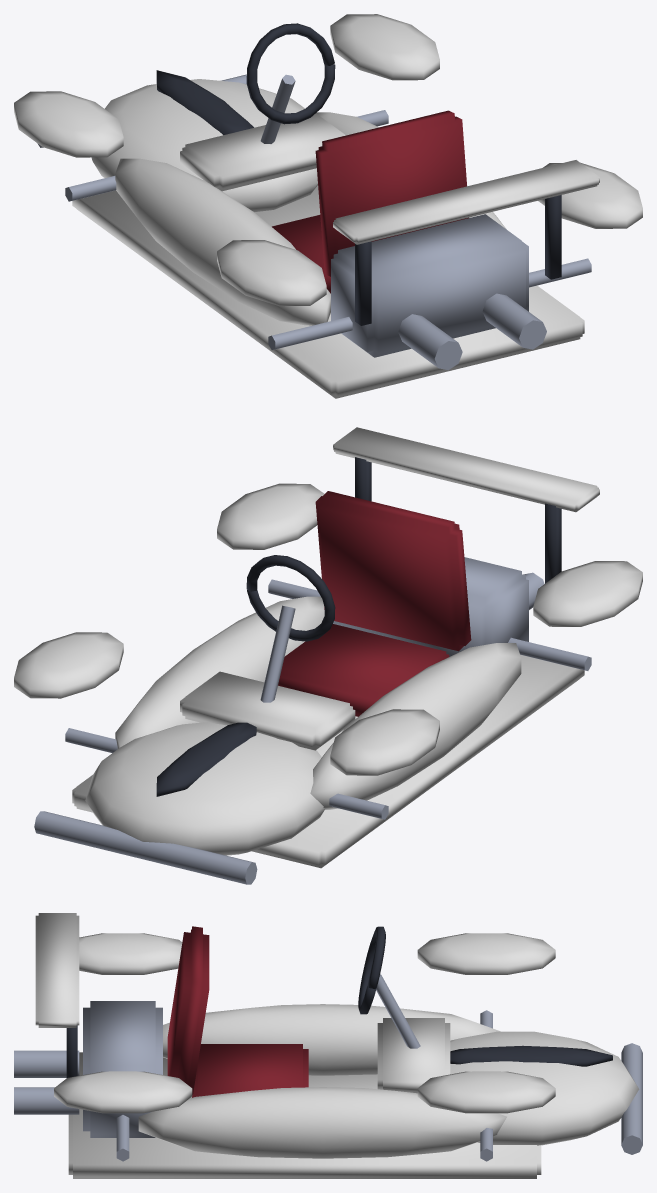
The model's file is part_kernel.glb.
3 views of the same model, one above another, from view 1: azimuth 30°, elevation 25°; view 2: azimuth 150°, elevation 25°; view 3: azimuth 270°, elevation 25° (orthographic). The views are drawn at different scales.
Parts seen in each view (by area): view 1: part_kernel; view 2: part_kernel; view 3: part_kernel.
Part boxes in pixels (x1=…): part_kernel: x1=14, y1=14, x2=642, y2=398; part_kernel: x1=14, y1=427, x2=642, y2=884; part_kernel: x1=14, y1=913, x2=642, y2=1178.
Size of the model in its own units: 1.12 by 0.5913 by 1.73.
